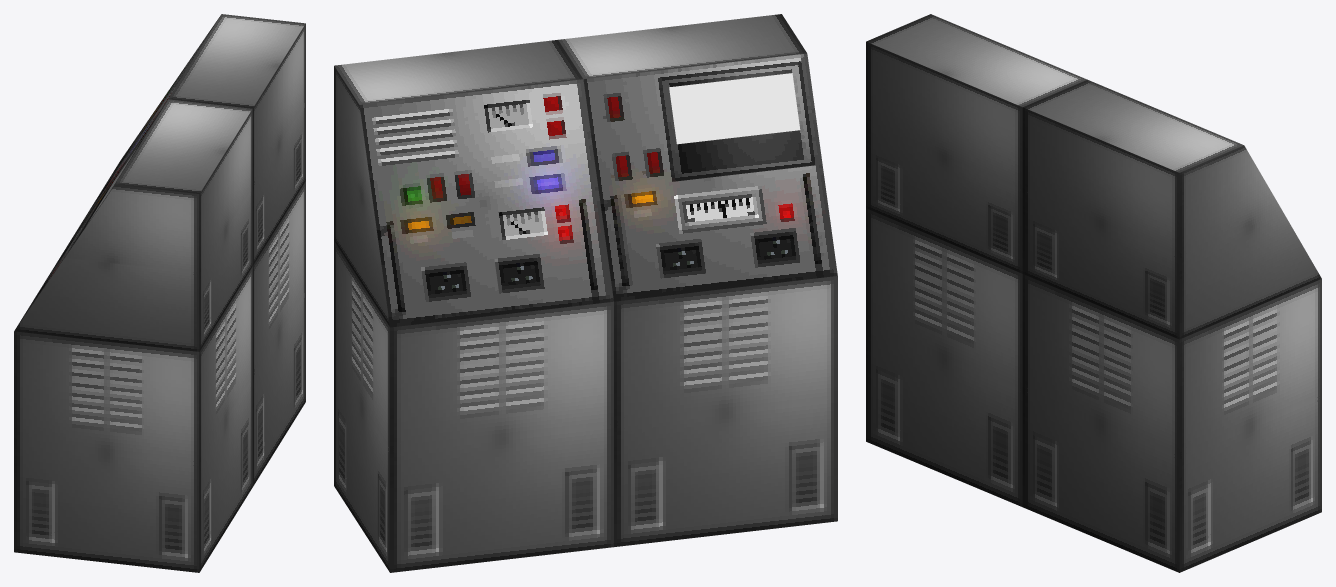
The model's file is primary_082.glb.
3 views of the same model, side by side, from view 1: azimuth 30°, elevation 25°; view 2: azimuth 150°, elevation 25°; view 3: azimuth 270°, elevation 25° (orthographic). The views are drawn at different scales.
Parts seen in each view (by area): view 1: Object; view 2: Object; view 3: Object.
Part boxes in pixels (x1,y1,x2,y2): Object: (14, 14, 305, 572); Object: (334, 14, 837, 572); Object: (866, 14, 1321, 572).
Size of the model in its own units: 1.3 by 1.26 by 1.3.
Materials: 13 (13 with a texture image).
